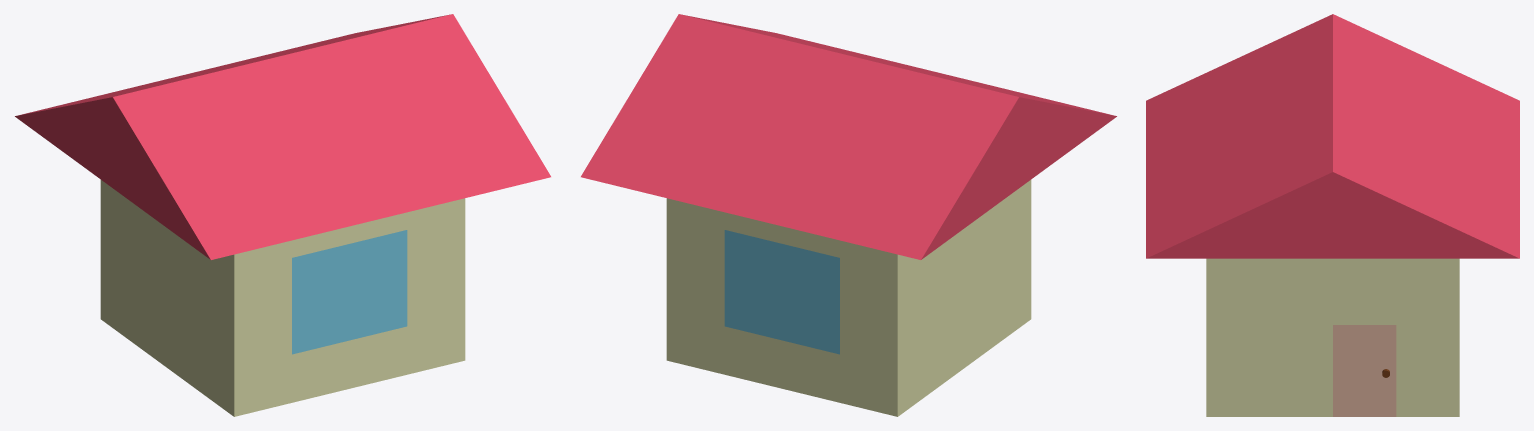
File: House_model.fbx
3 views of the same model, side by side, from view 1: azimuth 30°, elevation 25°; view 2: azimuth 150°, elevation 25°; view 3: azimuth 270°, elevation 25° (orthographic). The views are drawn at different scales.
Visible parts, largest first — view 1: 平面; view 2: 平面; view 3: 平面.
Part boxes in pixels (x1=…): 平面: x1=15, y1=14, x2=550, y2=416; 平面: x1=581, y1=14, x2=1116, y2=416; 平面: x1=1146, y1=14, x2=1519, y2=416.
Bounding box in the file's own units: 134 × 107 × 134.
